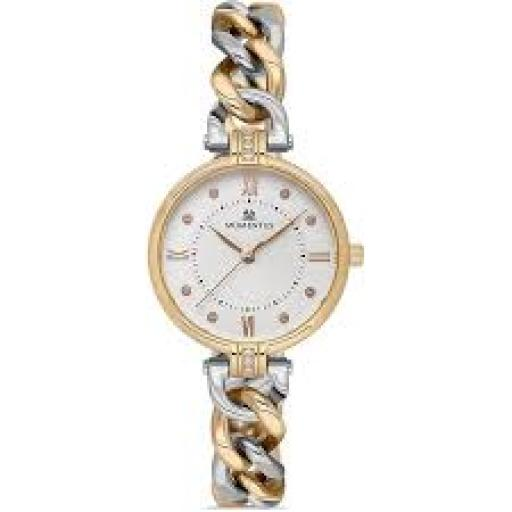KolSaati: (128, 1, 367, 512)
